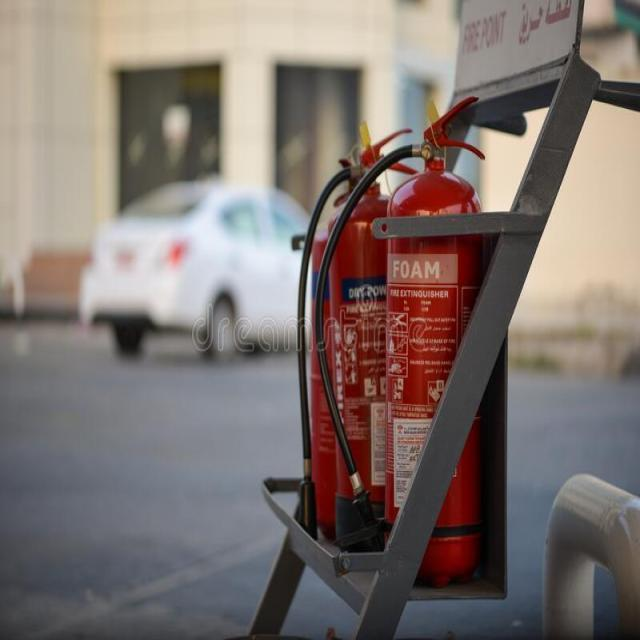fire_extinguisher: (312, 92, 488, 595), (310, 120, 424, 558)
